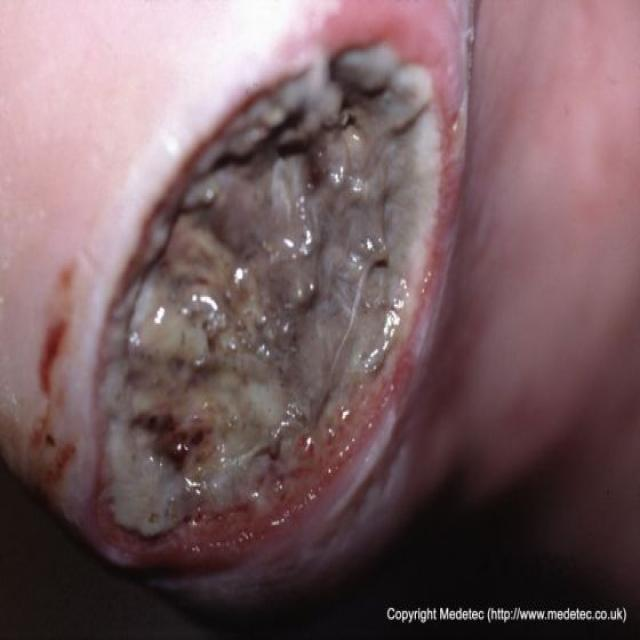Unstageable: (100, 47, 441, 542)
